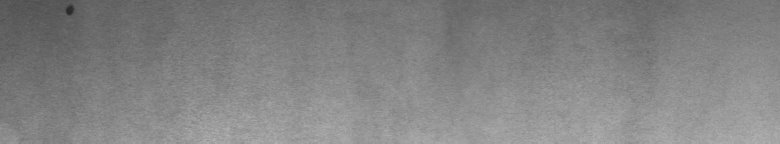fi: (60, 4, 80, 23)
